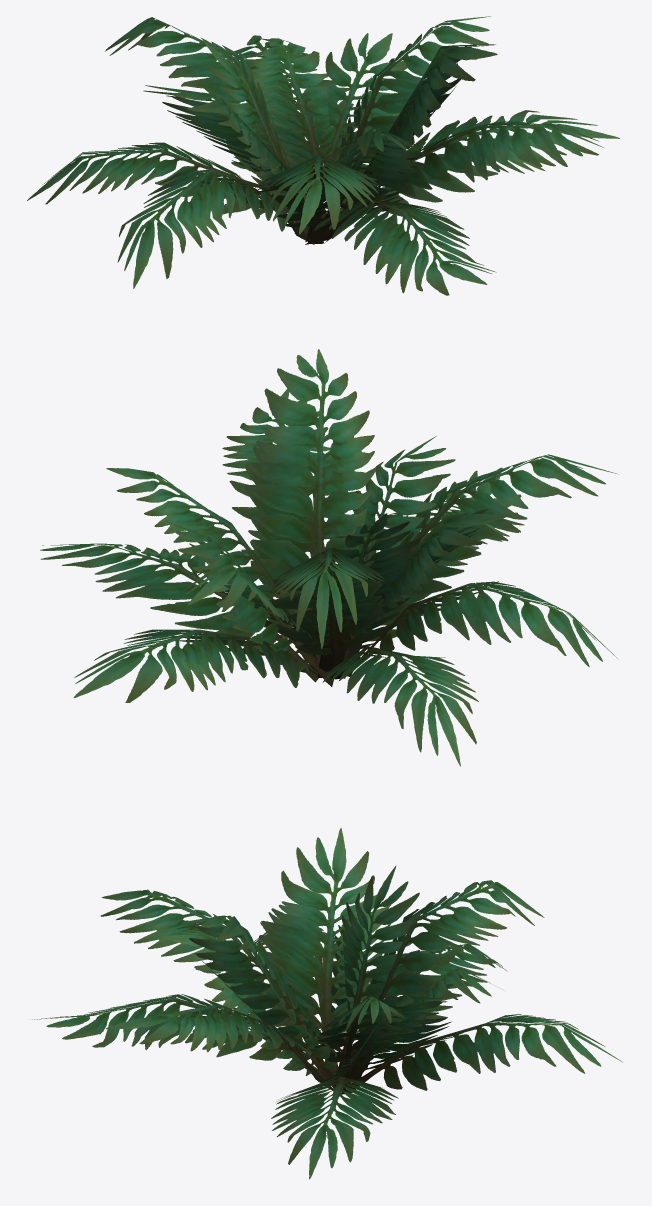
File: sholazar_ferna.obj
3 renders of one model, top to bottom at view 1: azimuth 30°, elevation 25°; view 2: azimuth 150°, elevation 25°; view 3: azimuth 270°, elevation 25°, orthographic. The views are drawn at different scales.
Visible parts, largest first — view 1: sholazar_ferna; view 2: sholazar_ferna; view 3: sholazar_ferna.
Boxes of the visible parts, bbox=[...] form: sholazar_ferna: bbox=[27, 16, 619, 295]; sholazar_ferna: bbox=[40, 349, 617, 766]; sholazar_ferna: bbox=[32, 828, 622, 1179].
Bounding box in the file's own units: 4.73 × 1.91 × 5.
Materials: 1 (1 with a texture image).
